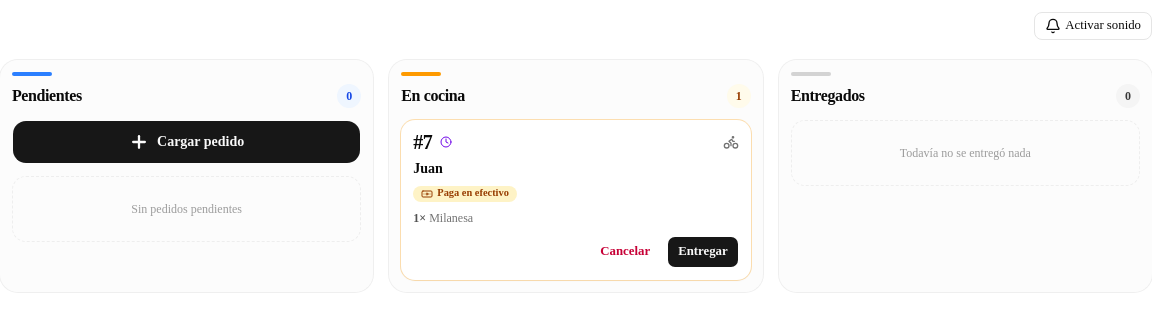
OrdersRealtimeBoard · resincronización › un rechazo de transición trae la fila real, no vuelve a la vieja
Click the button "Entregar" at {"x": 703, "y": 252}, box [667,236,739,268]
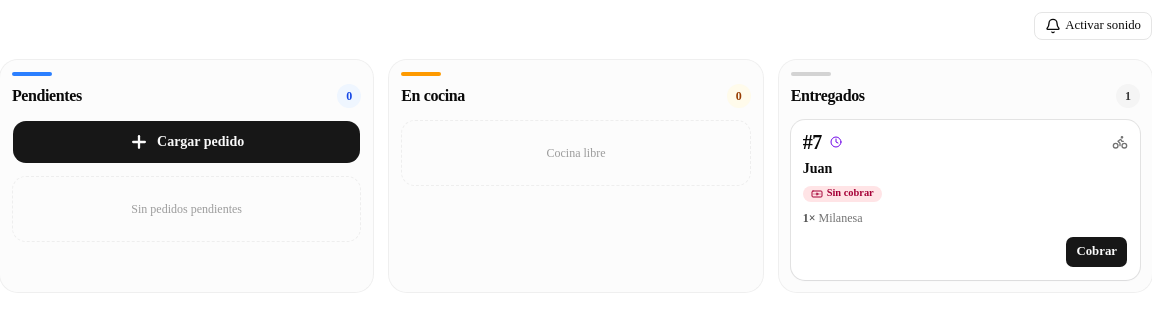
Now the button "Entregar" is gone
